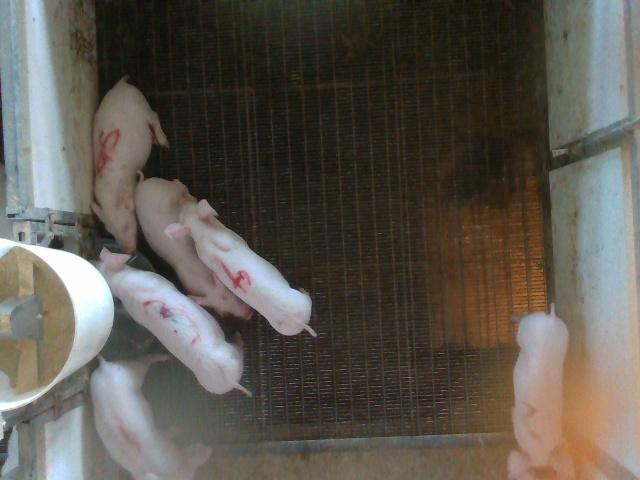pig-1: (90, 360, 185, 479)
pig-2: (509, 314, 574, 479)
pig-3: (96, 249, 250, 394)
pig-4: (165, 199, 316, 336)
pig-5: (92, 78, 169, 254)
